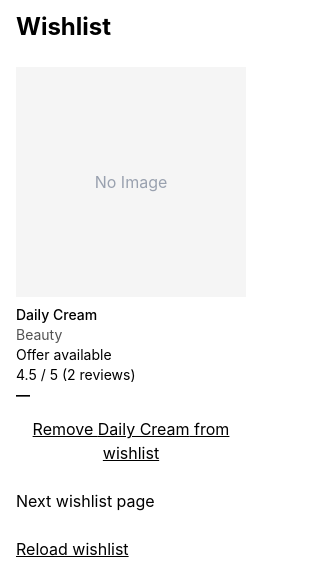
Test case: wishlist and points › uses local page parameters rather than following wishlist next hosts
Click the button "Next wishlist page": x=85, y=501 16,489 -> 155,513
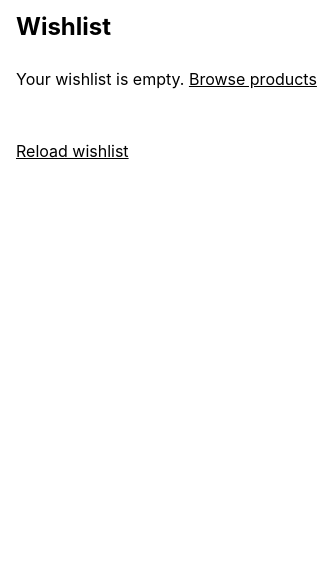
Now the text "Your wishlist is empty. Browse products" is shown, box 16,69 -> 317,89
